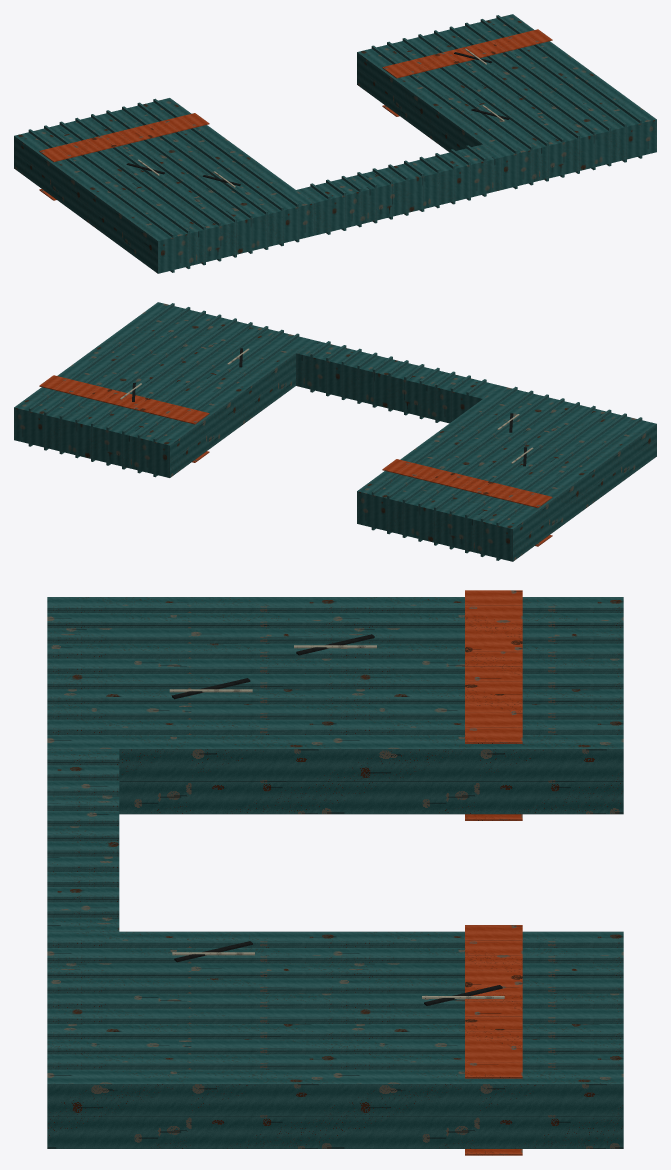
Rendered from corrugated_door-light.obj.
3 renders of one model, top to bottom at view 1: azimuth 30°, elevation 25°; view 2: azimuth 150°, elevation 25°; view 3: azimuth 270°, elevation 25°, orthographic. The views are drawn at different scales.
Visible parts, largest first — view 1: corrugated_door.Light; view 2: corrugated_door.Light; view 3: corrugated_door.Light.
Part boxes in pixels (x1,y1,x2,y2): corrugated_door.Light: (14,14,656,273); corrugated_door.Light: (14,302,656,561); corrugated_door.Light: (47,590,623,1155).
Bounding box in the file's own units: 16 × 1.37 × 8.
4 materials, 4 textured.
